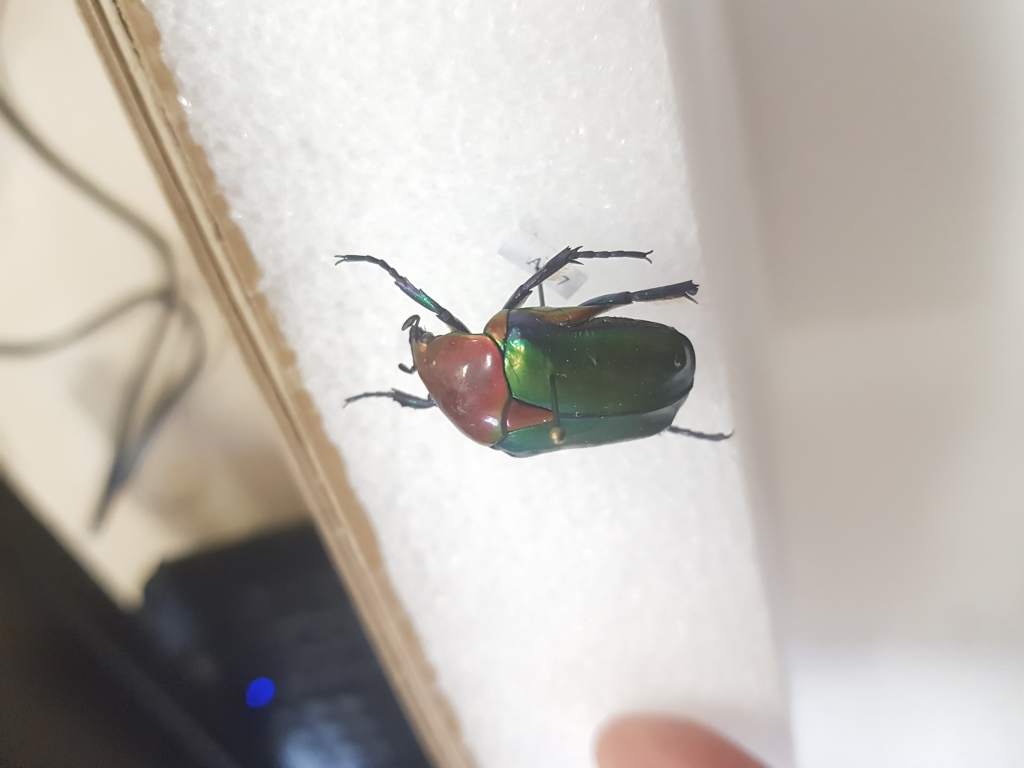Protaetia_speciosa_jousseliniw: (322, 239, 742, 471)
